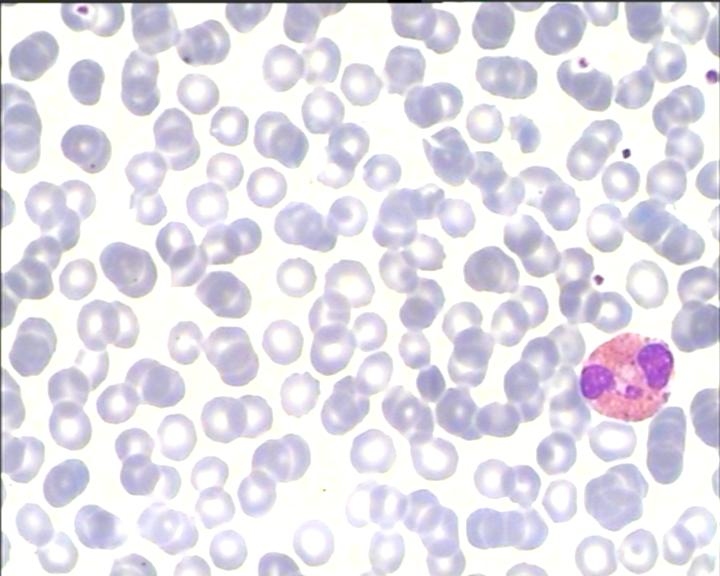eosi: (575, 328, 676, 424)
